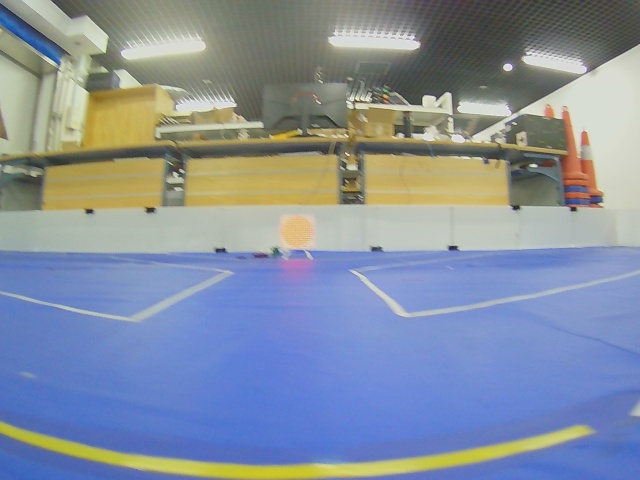red: (280, 215, 315, 250)
